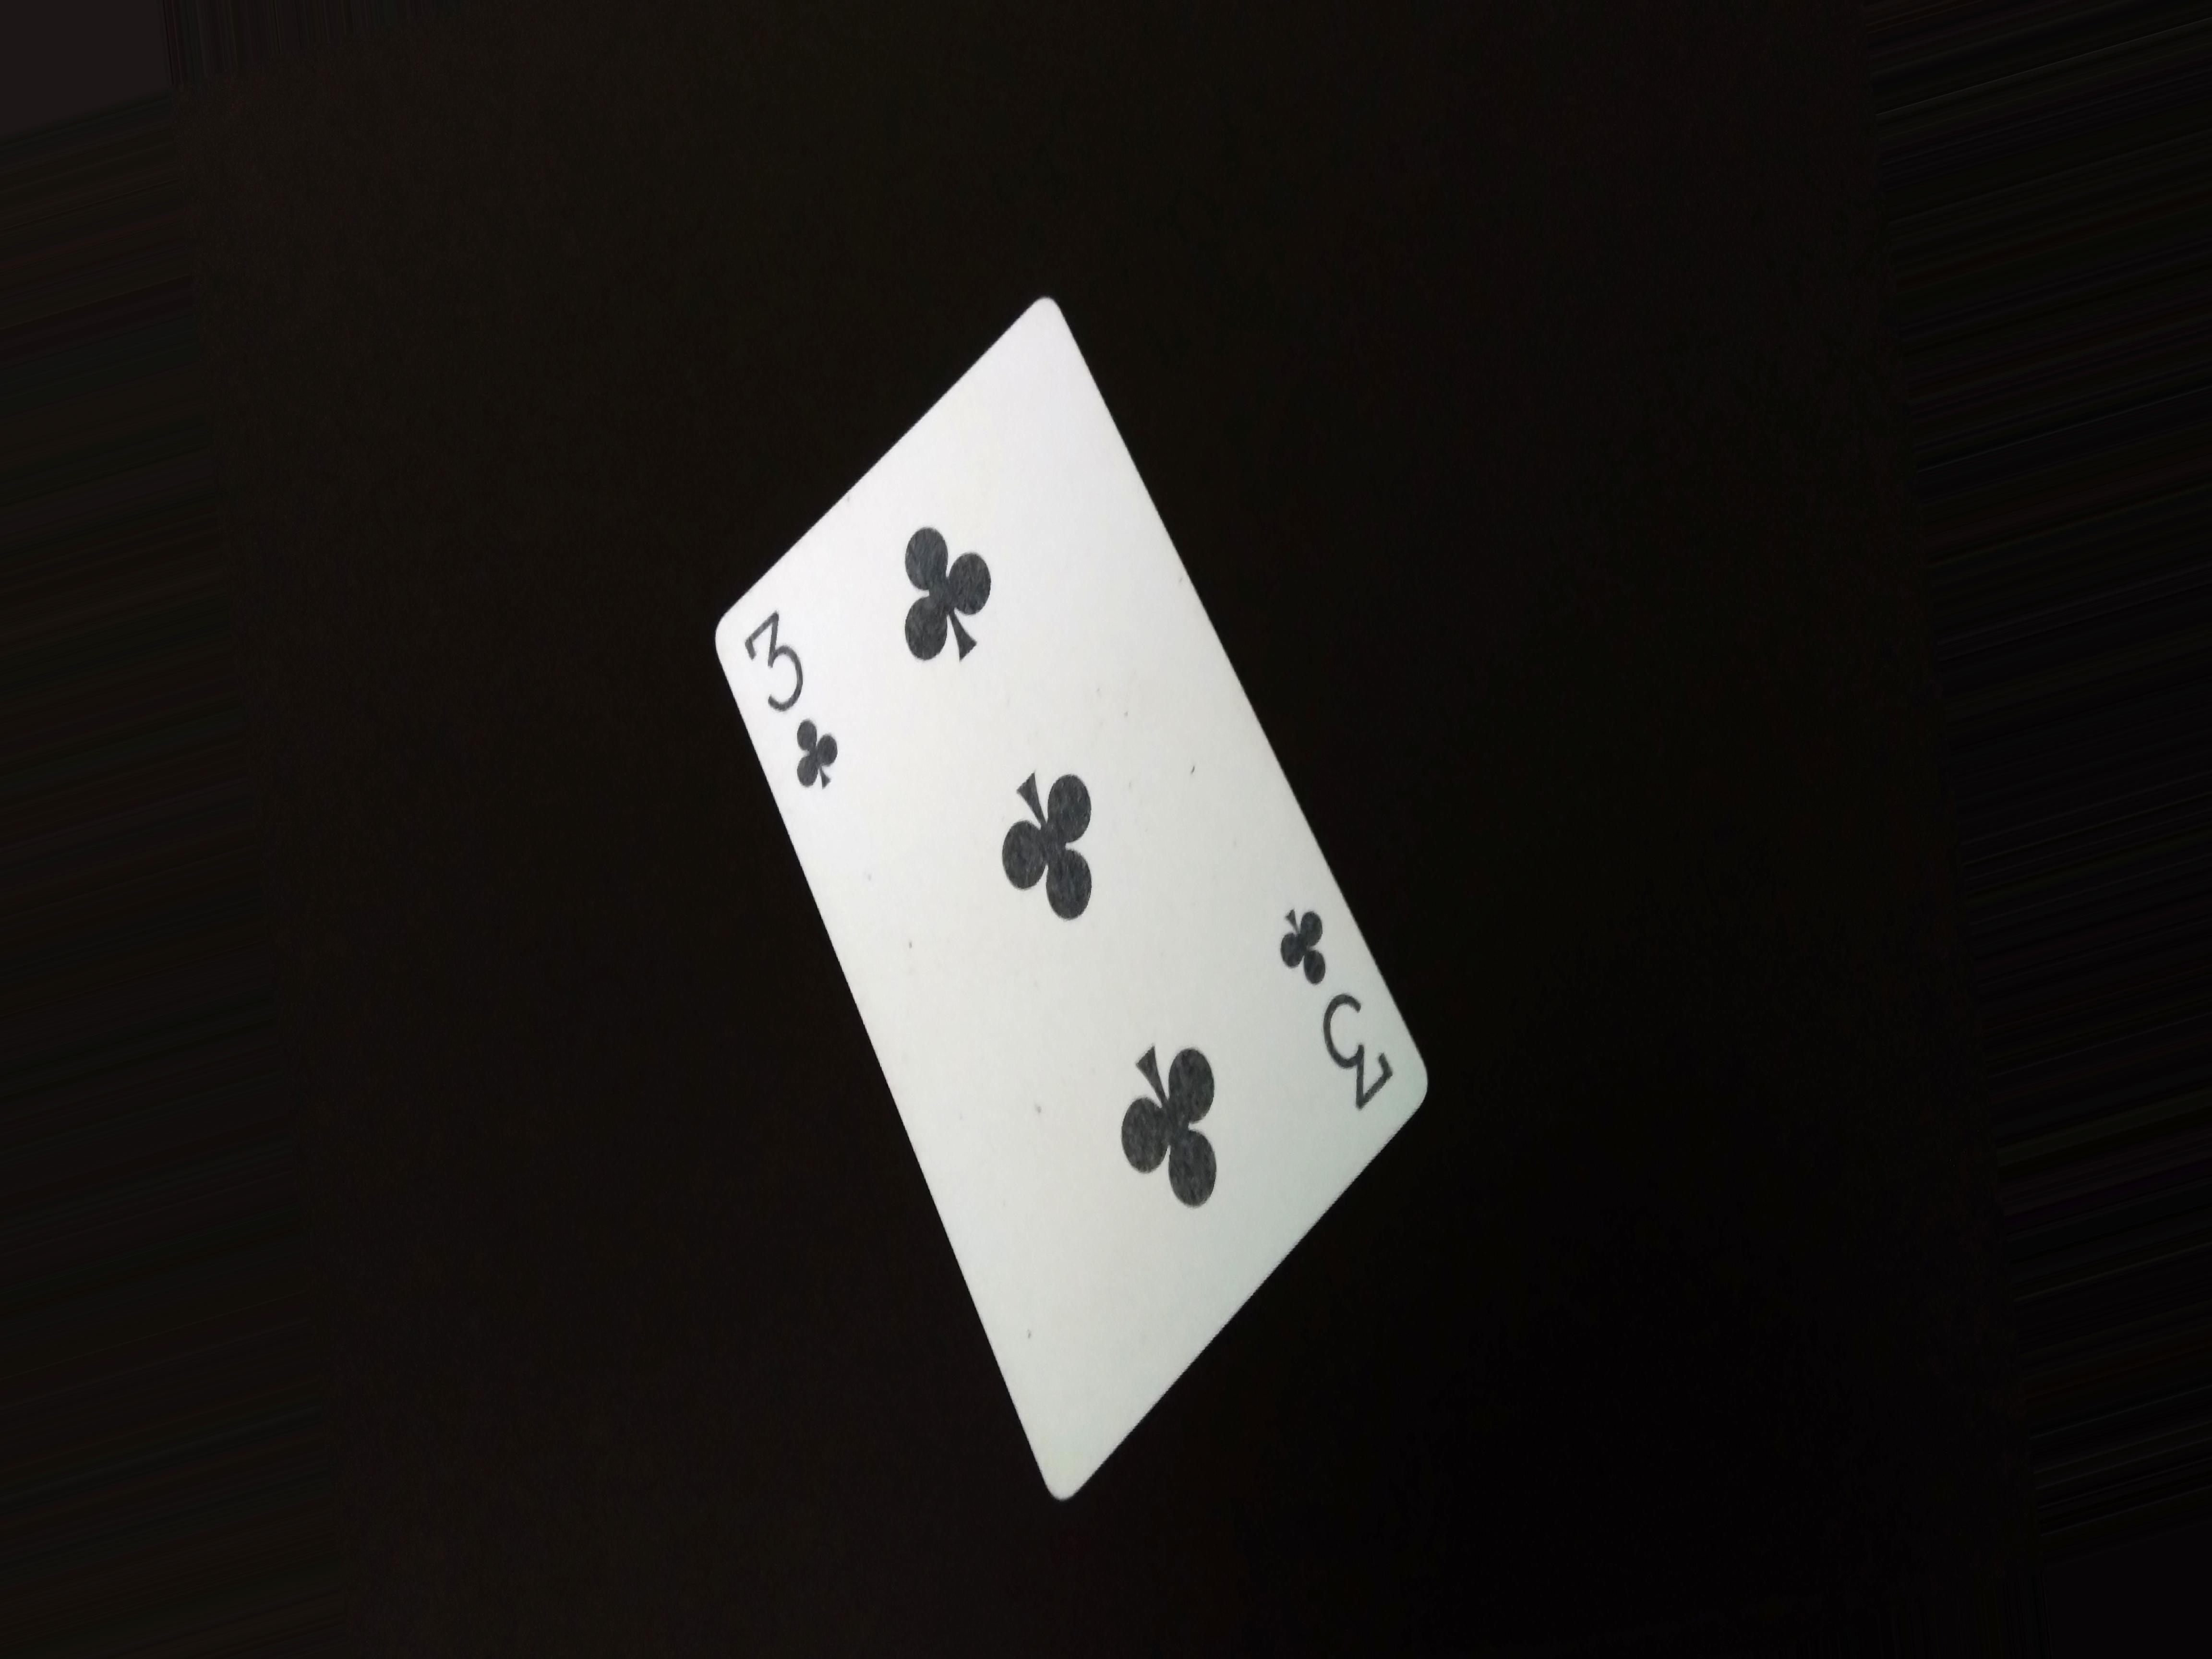3C: (1264, 889, 1437, 1164)
